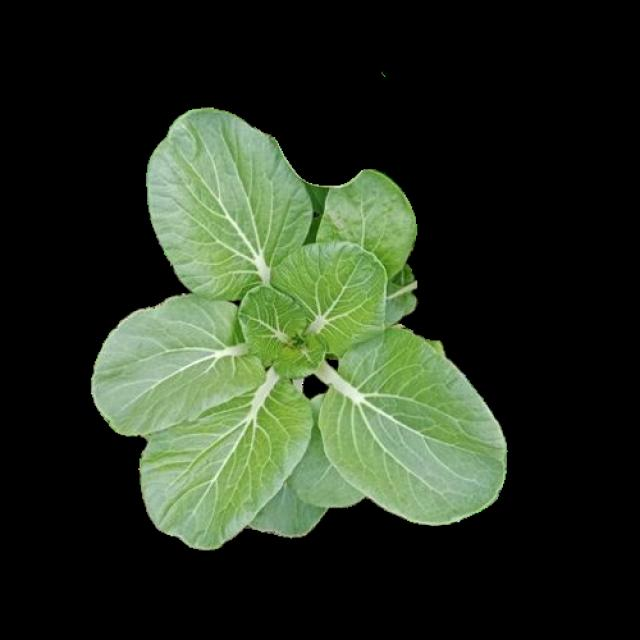healthy: (89, 108, 507, 544)
mature: (92, 110, 510, 547)
